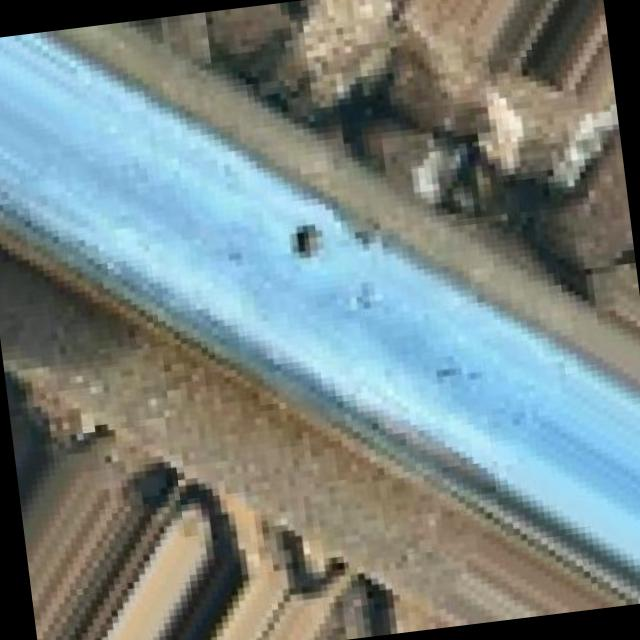defective: (0, 25, 640, 563)
